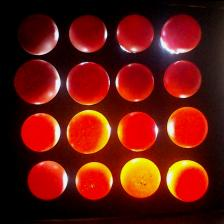fertile: (13, 58, 61, 104), (66, 61, 110, 104), (15, 12, 58, 54), (115, 61, 155, 102), (160, 13, 202, 52), (68, 14, 108, 52), (164, 59, 202, 98), (116, 14, 154, 52)
infertile: (66, 109, 110, 153), (166, 159, 210, 201), (166, 106, 208, 147), (26, 159, 68, 199), (120, 156, 160, 197), (118, 110, 158, 150), (20, 112, 60, 151), (75, 160, 113, 198)
